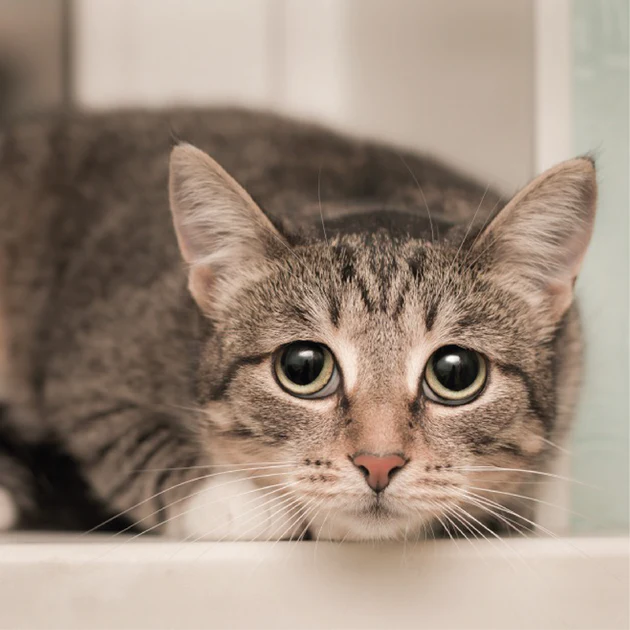cat: (55, 122, 603, 542)
